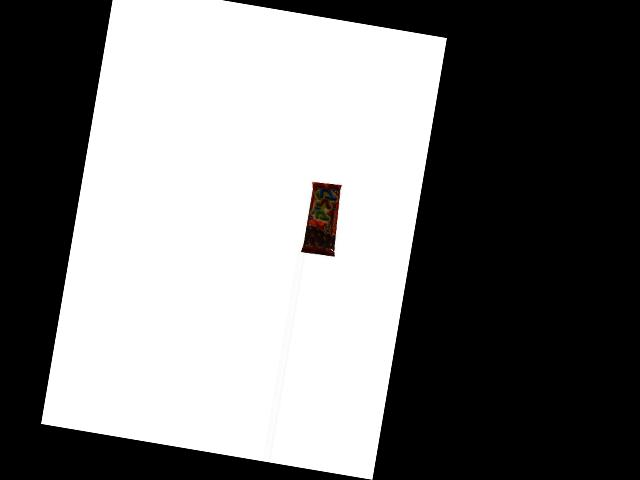chocolate: (300, 180, 345, 257)
